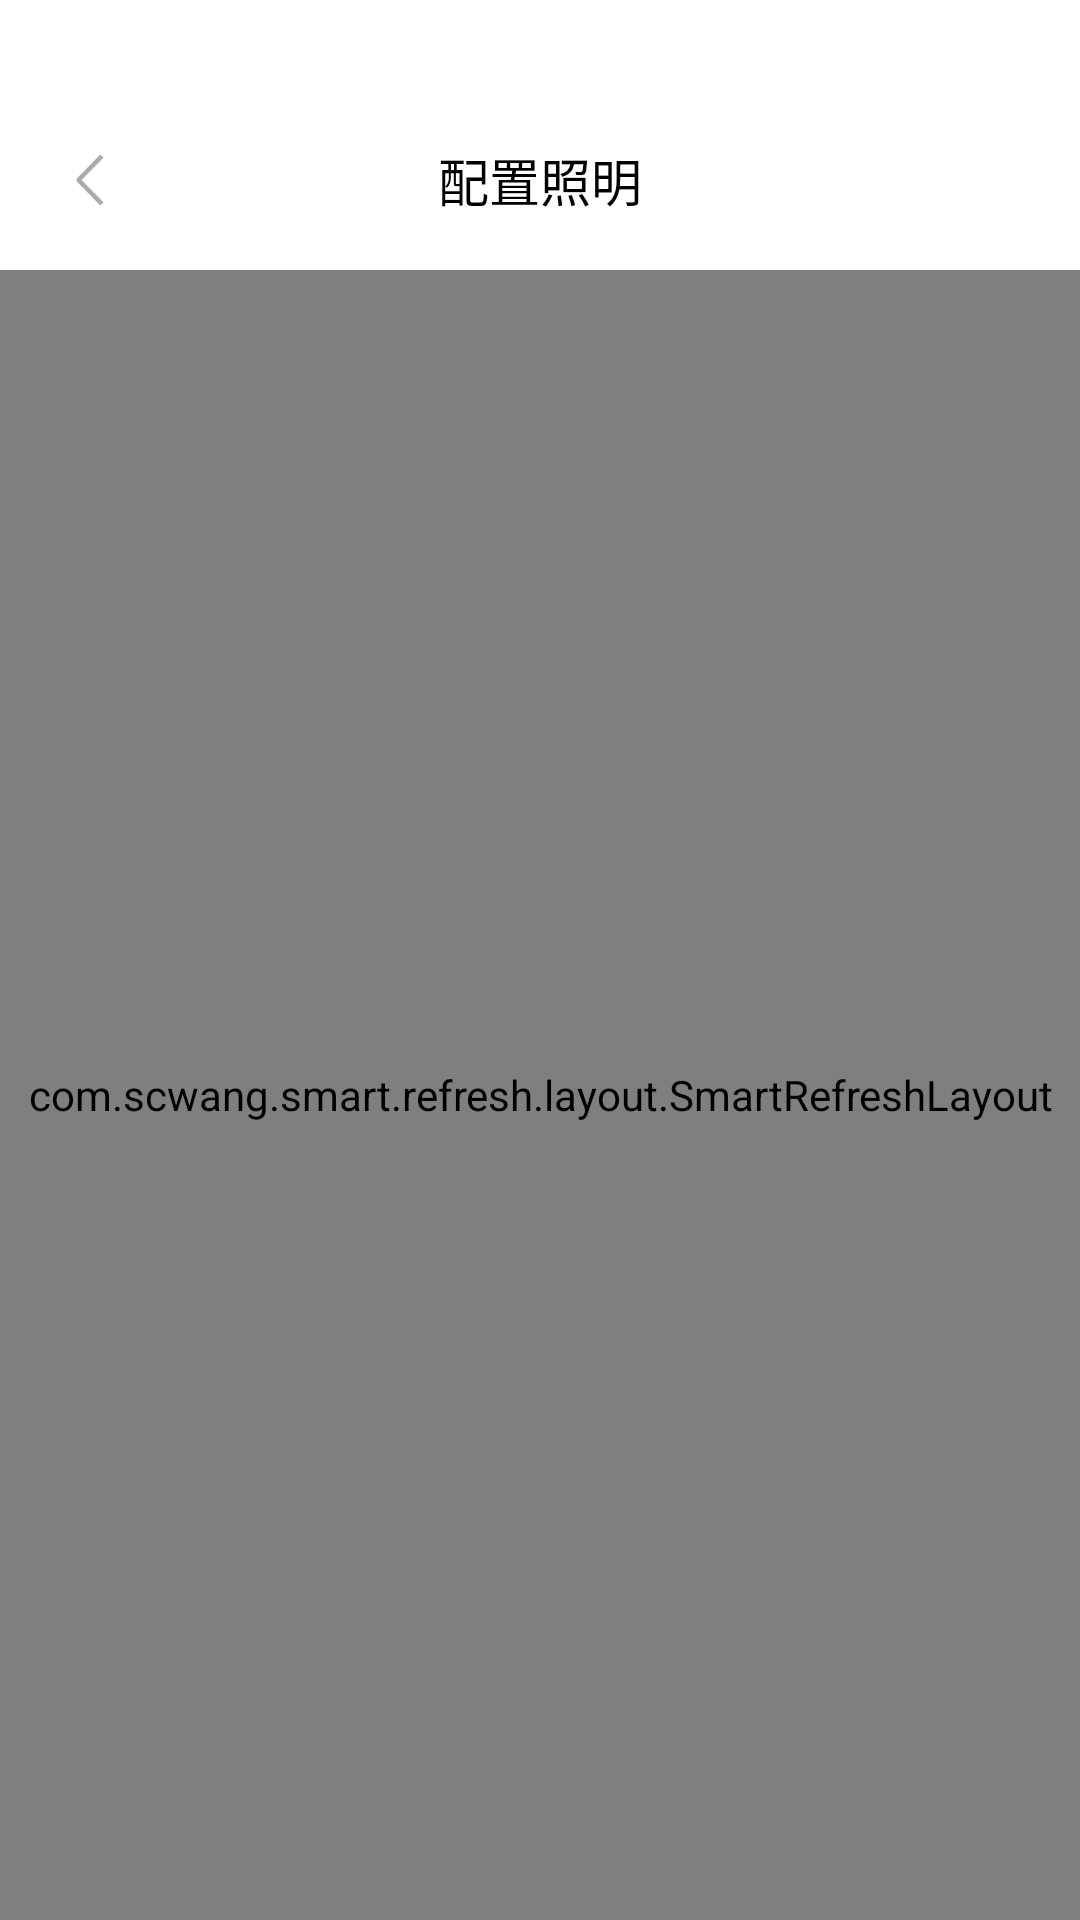

Named icons in this screenshot (1080 x 1920) and their centers, point (x, y):
back: point (89, 180)
